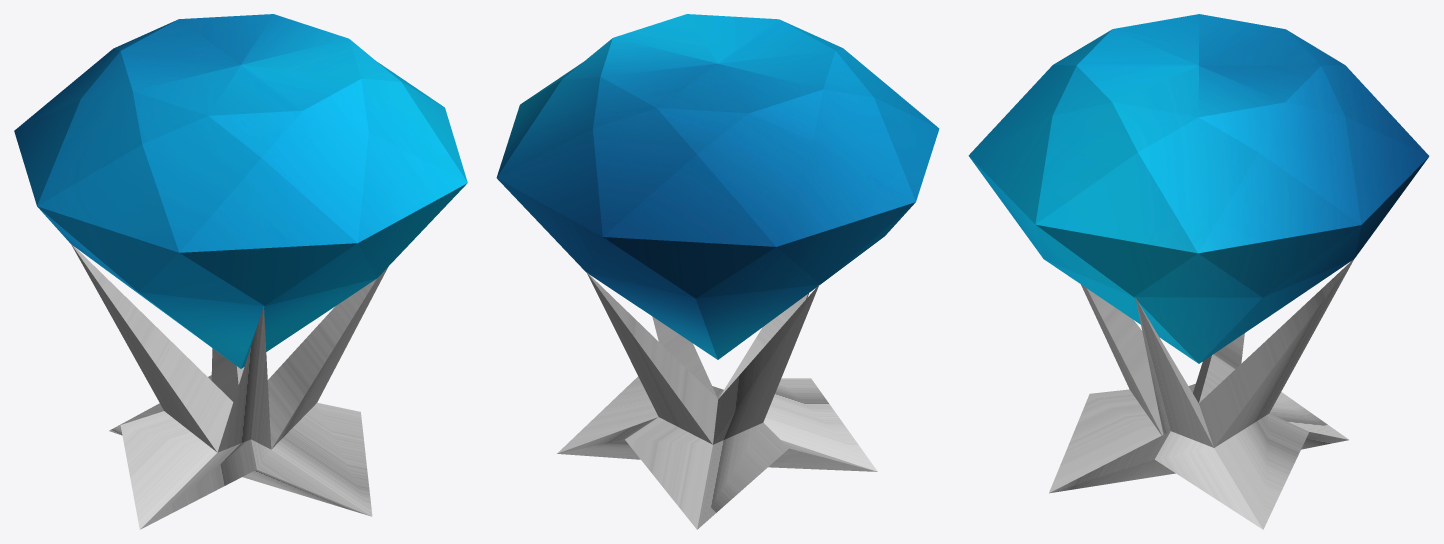
File: joya.obj
The picture shows the model from 3 angles, left to right: view 1: azimuth 30°, elevation 25°; view 2: azimuth 150°, elevation 25°; view 3: azimuth 270°, elevation 25°; orthographic projection. The views are drawn at different scales.
Parts seen in each view (by area): view 1: diamond, base; view 2: diamond, base; view 3: diamond, base.
Part boxes in pixels (left/top/right/bottom): diamond: left=14, top=14, right=467, bottom=368; base: left=71, top=244, right=387, bottom=529; diamond: left=496, top=14, right=939, bottom=359; base: left=557, top=272, right=877, bottom=529; diamond: left=968, top=14, right=1429, bottom=363; base: left=1049, top=259, right=1353, bottom=529.
Bounding box in the file's own units: 2.09 × 2.02 × 2.09.
